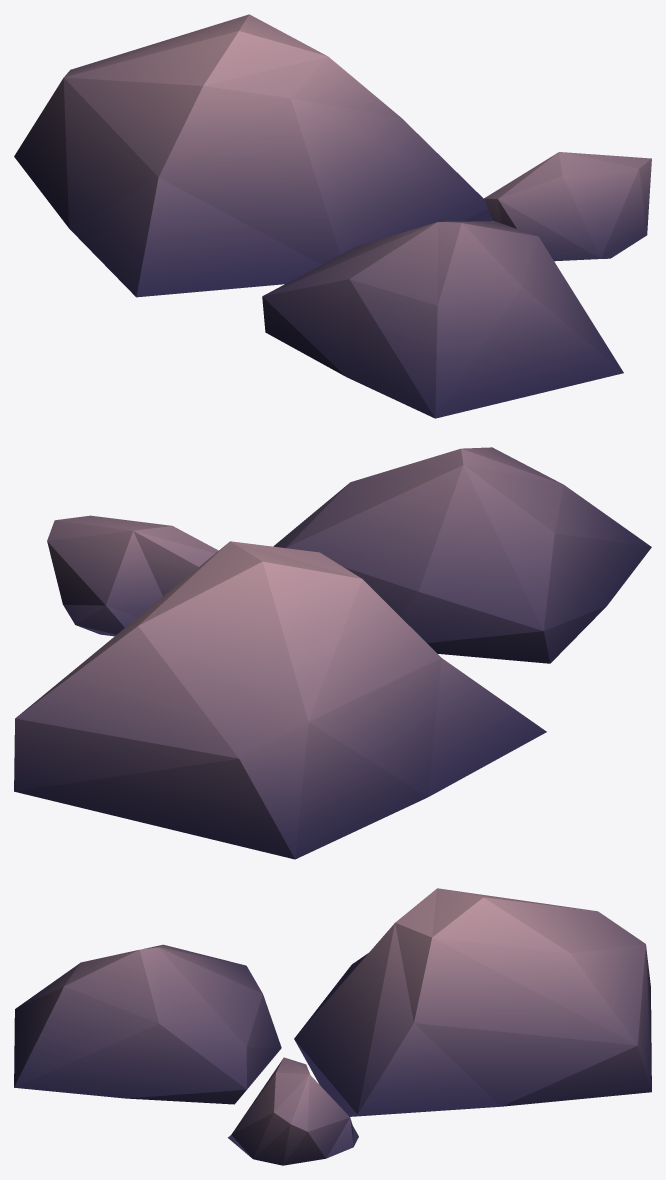
The model's file is props 0 - 01.fbx.
The picture shows the model from 3 angles, top to bottom: view 1: azimuth 30°, elevation 25°; view 2: azimuth 150°, elevation 25°; view 3: azimuth 270°, elevation 25°; orthographic projection. The views are drawn at different scales.
Parts seen in each view (by area): view 1: 001; view 2: 001; view 3: 001.
Boxes of the visible parts, <box> form: 001: <box>14,14,651,418</box>; 001: <box>14,447,651,859</box>; 001: <box>14,888,651,1165</box>.
Size of the model in its own units: 104 by 35.65 by 140.
